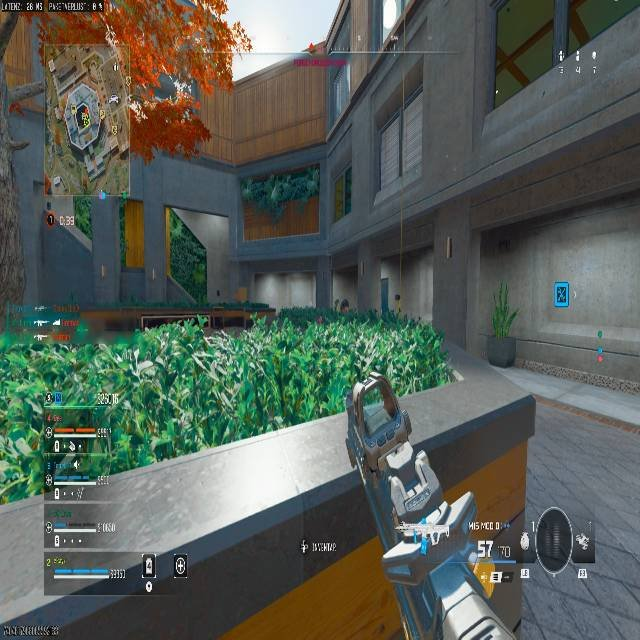player: (334, 297, 350, 313)
